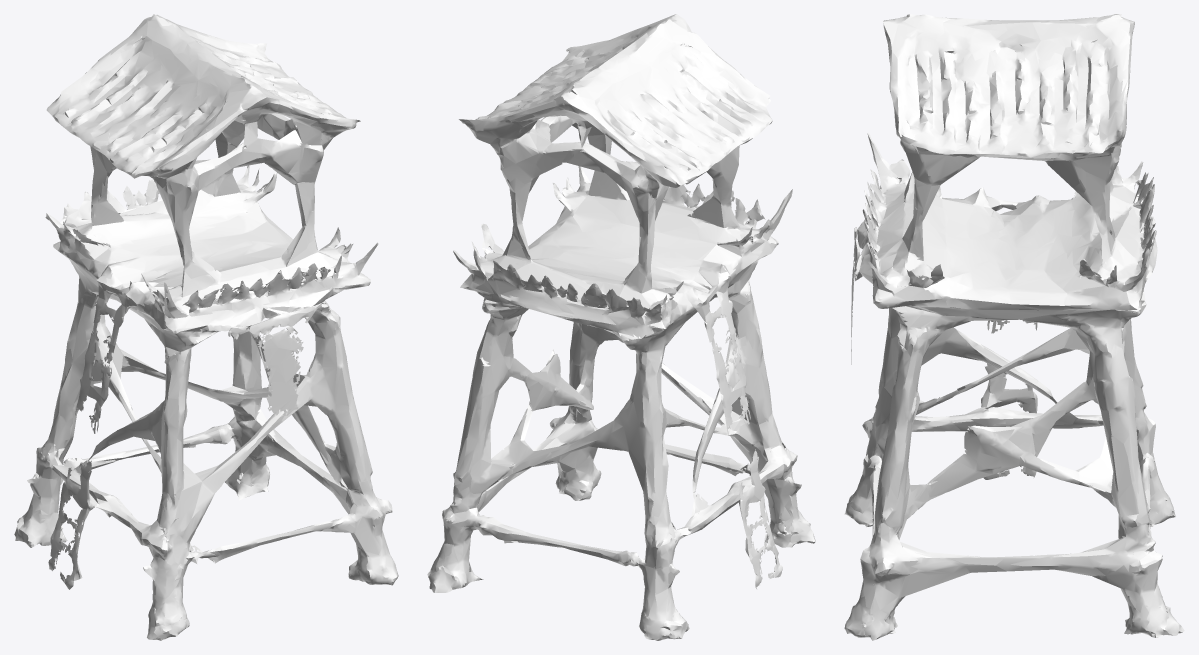
File: watch_tower.glb
3 renders of one model, left to right at view 1: azimuth 30°, elevation 25°; view 2: azimuth 150°, elevation 25°; view 3: azimuth 270°, elevation 25°, orthographic. The views are drawn at different scales.
Visible parts, largest first — view 1: output_unwrapped; view 2: output_unwrapped; view 3: output_unwrapped.
Boxes of the visible parts, box(x1,y1,x2,y2) form: output_unwrapped: box(14, 14, 398, 640); output_unwrapped: box(427, 14, 815, 640); output_unwrapped: box(844, 14, 1184, 640).
Bounding box in the file's own units: 6.79 × 12 × 6.61.
1 material, 1 textured.
